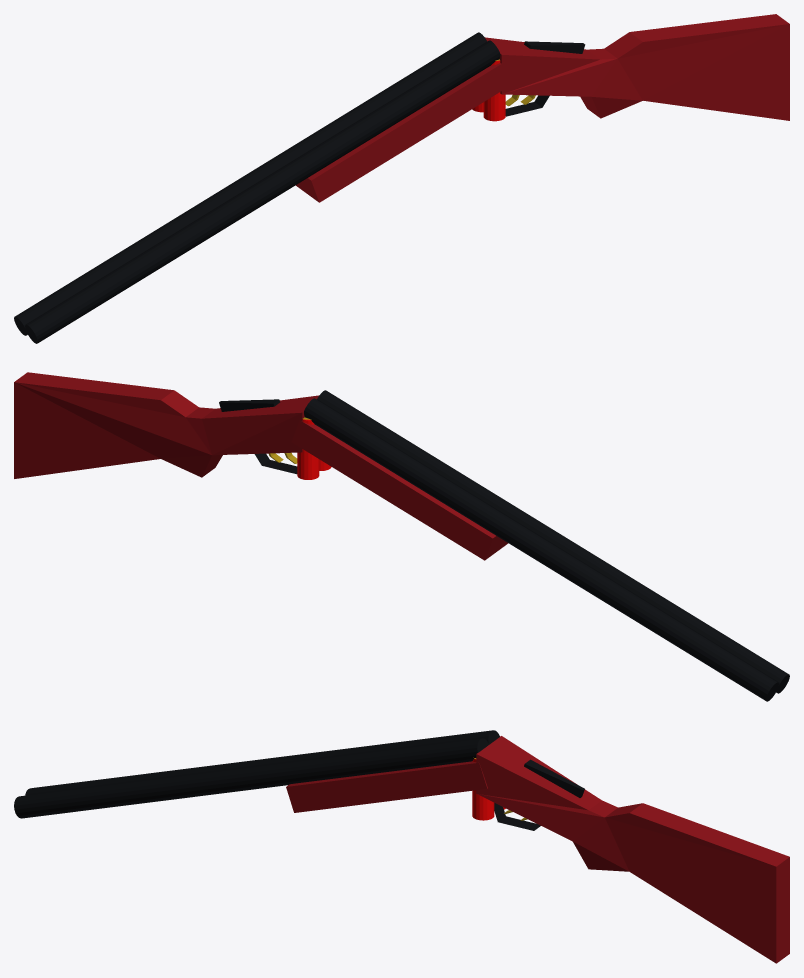
The model's file is double-barreled-shotgun0025.obj.
3 views of the same model, one above another, from view 1: azimuth 30°, elevation 25°; view 2: azimuth 150°, elevation 25°; view 3: azimuth 330°, elevation 25° (orthographic).
Parts seen in each view (by area): view 1: rearStock, leftBarrel, rightBarrel, foreGrip, shellPlastic; view 2: rearStock, rightBarrel, leftBarrel, foreGrip, shellPlastic2; view 3: rearStock, leftBarrel, foreGrip, rightBarrel, topLatch, shellPlastic, triggerGuard.
Part boxes in pixels (x1,y1,x2,y2): rearStock: (485,14,789,120); leftBarrel: (25,40,500,343); rightBarrel: (14,32,487,335); foreGrip: (296,62,512,202); shellPlastic: (483,60,505,121); rearStock: (14,372,318,478); rightBarrel: (304,398,778,701); leftBarrel: (317,390,789,693); foreGrip: (291,420,508,560); shellPlastic2: (297,419,319,479); rearStock: (476,736,789,963); leftBarrel: (14,738,488,818); foreGrip: (286,761,487,812); rightBarrel: (25,730,499,795); topLatch: (524,759,584,797); shellPlastic: (472,758,494,820); triggerGuard: (494,803,540,830).
Size of the model in its own units: 3.58 by 0.8563 by 0.2057.
